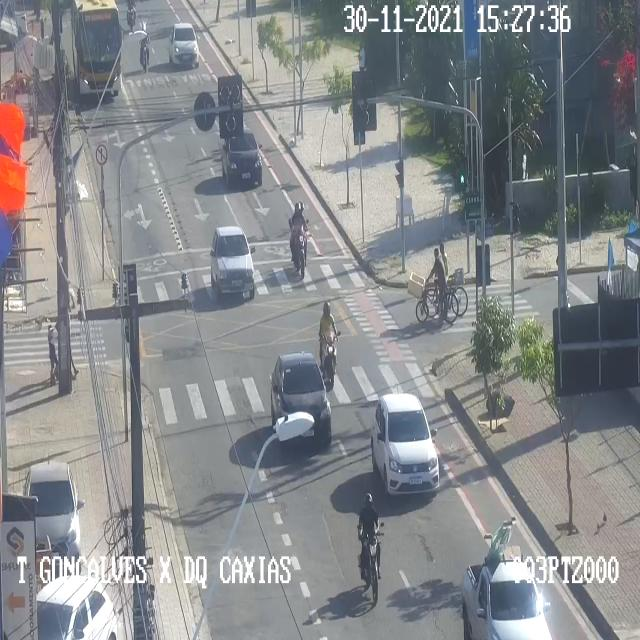Bus: (72, 0, 124, 101)
Car: (460, 559, 550, 639), (373, 391, 441, 494), (24, 463, 84, 565), (271, 350, 331, 451), (38, 576, 113, 639), (210, 225, 255, 305), (221, 130, 265, 187), (168, 22, 201, 70)
Motorcycle: (355, 492, 385, 606), (318, 301, 340, 388), (288, 204, 308, 278), (138, 38, 152, 73), (127, 1, 137, 27)
